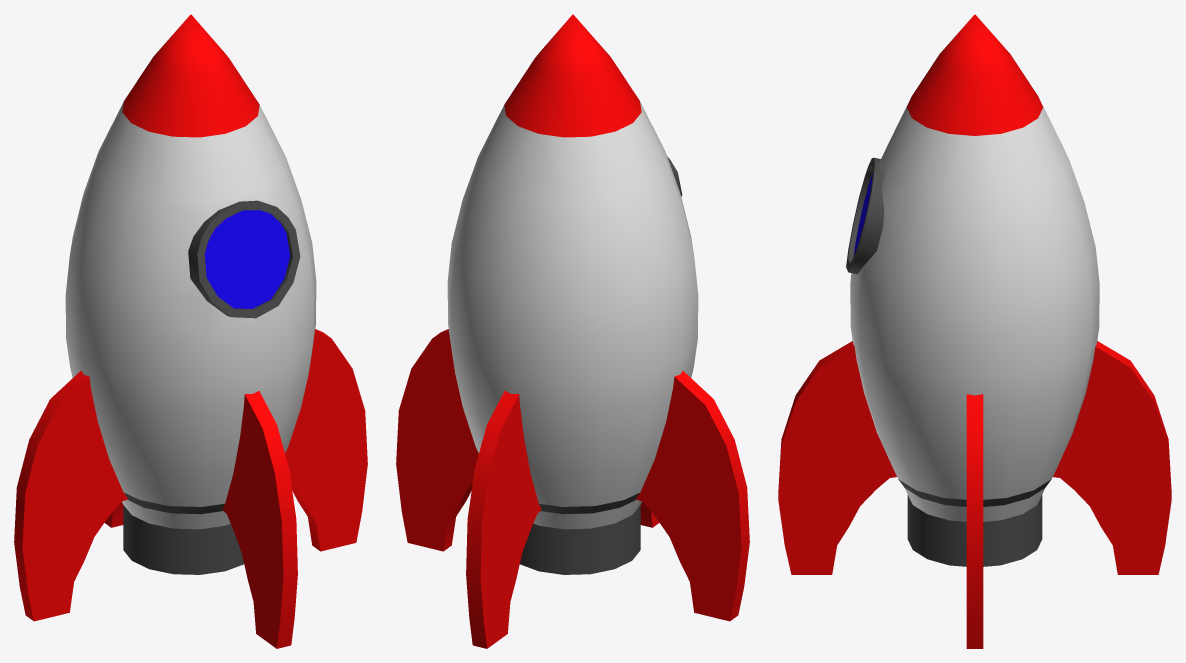
The model's file is Basic Ship.fbx.
The picture shows the model from 3 angles, left to right: view 1: azimuth 30°, elevation 25°; view 2: azimuth 150°, elevation 25°; view 3: azimuth 270°, elevation 25°; orthographic projection.
Parts seen in each view (by area): view 1: Spaceship_ Single_Engine; view 2: Spaceship_ Single_Engine; view 3: Spaceship_ Single_Engine.
Part boxes in pixels (bbox=[...]): Spaceship_ Single_Engine: bbox=[14, 14, 367, 648]; Spaceship_ Single_Engine: bbox=[396, 14, 749, 648]; Spaceship_ Single_Engine: bbox=[778, 14, 1171, 648].
Bounding box in the file's own units: 47.68 × 74.55 × 47.68.
